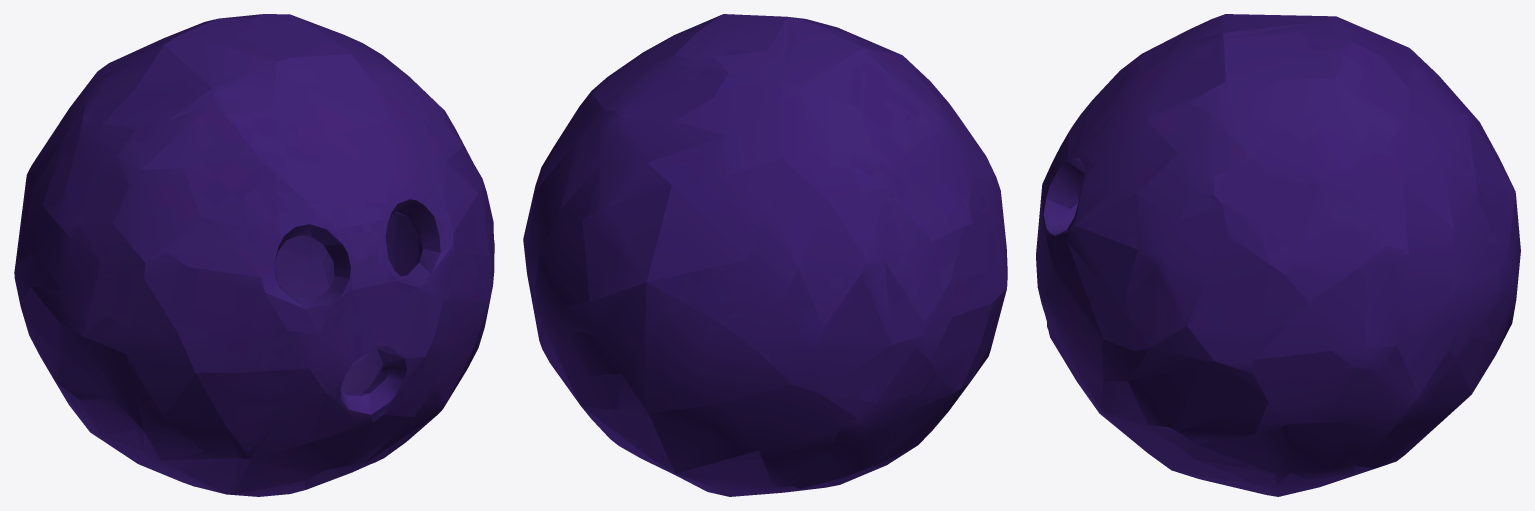
Rendered from ball.glb.
3 renders of one model, left to right at view 1: azimuth 30°, elevation 25°; view 2: azimuth 150°, elevation 25°; view 3: azimuth 270°, elevation 25°, orthographic.
Size of the model in its own units: 1.9 by 1.88 by 1.9.
Materials: 1 (1 with a texture image).
